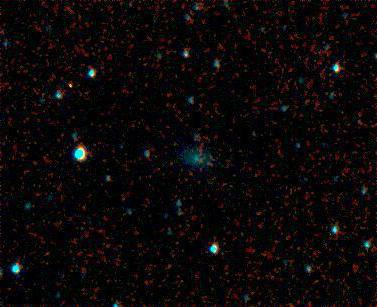star: (190, 153, 220, 183)
